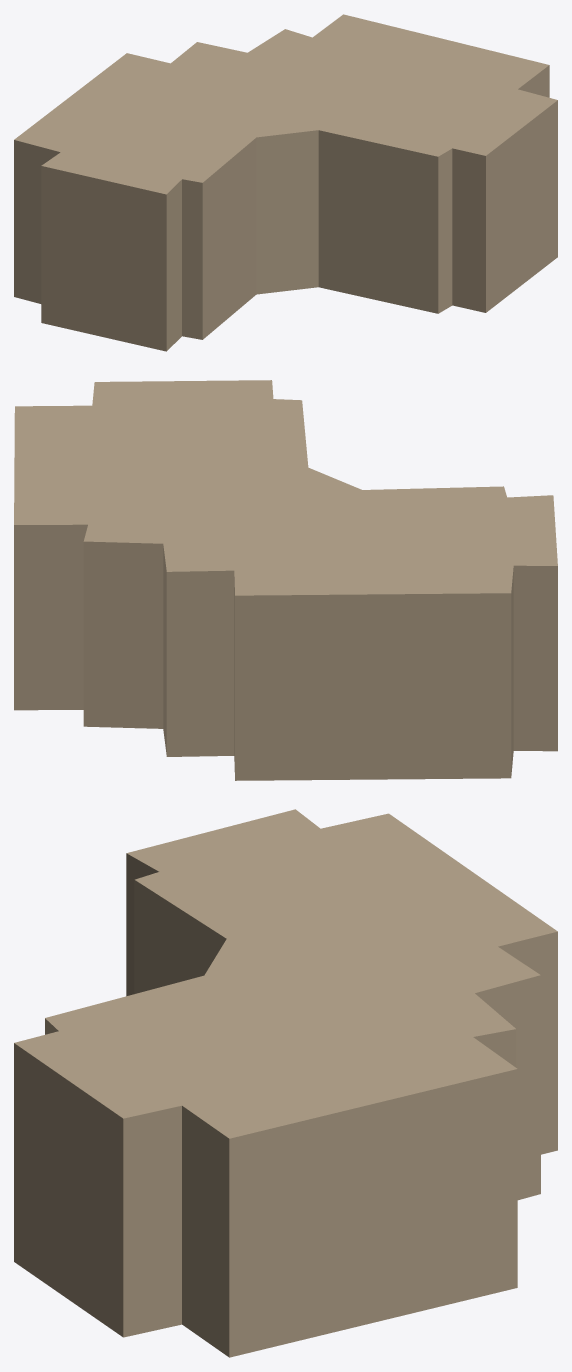
File: bld_99616018.dae
3 views of the same model, one above another, from view 1: azimuth 30°, elevation 25°; view 2: azimuth 150°, elevation 25°; view 3: azimuth 270°, elevation 25° (orthographic). The views are drawn at different scales.
Parts seen in each view (by area): view 1: bld_99616018; view 2: bld_99616018; view 3: bld_99616018.
Boxes of the visible parts, left/top/right/bottom form: bld_99616018: left=14, top=14, right=557, bottom=351; bld_99616018: left=14, top=380, right=557, bottom=780; bld_99616018: left=14, top=809, right=557, bottom=1357.
Size of the model in its own units: 25.82 by 18.02 by 8.
